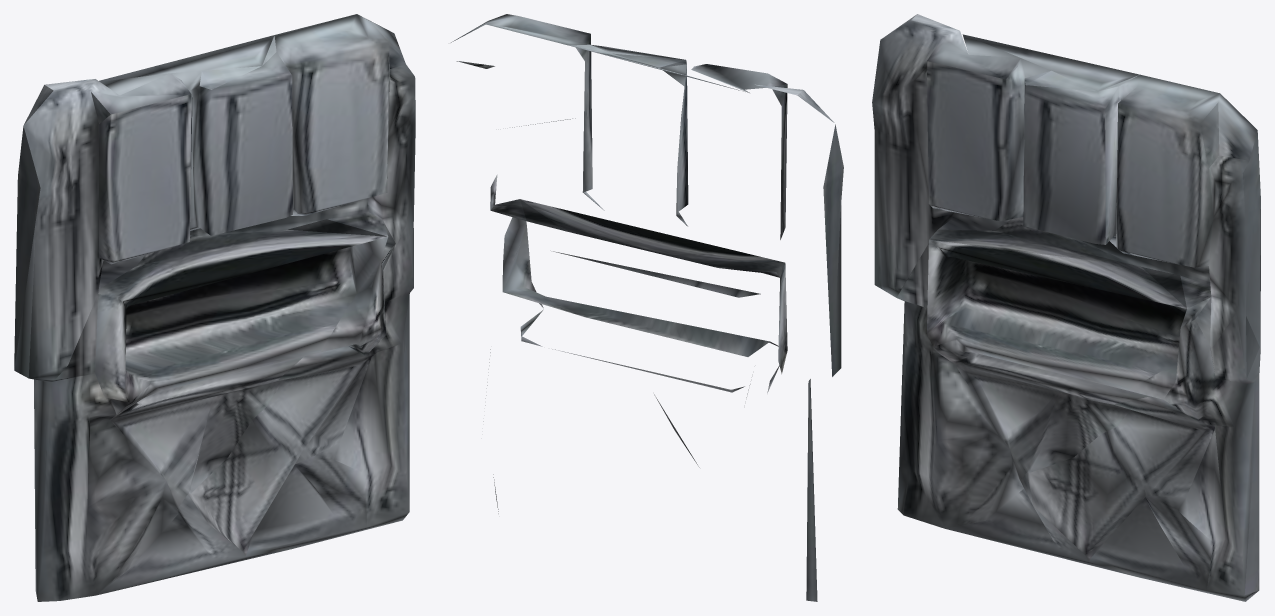
The model's file is hangar_wall_panel_g.glb.
3 views of the same model, side by side, from view 1: azimuth 30°, elevation 25°; view 2: azimuth 150°, elevation 25°; view 3: azimuth 330°, elevation 25° (orthographic). The views are drawn at different scales.
Parts seen in each view (by area): view 1: hangar_wall_panel_g; view 2: hangar_wall_panel_g; view 3: hangar_wall_panel_g.
Part boxes in pixels (x1,y1,x2,y2): hangar_wall_panel_g: (14, 14, 415, 601); hangar_wall_panel_g: (451, 14, 843, 601); hangar_wall_panel_g: (872, 14, 1260, 601).
Bounding box in the file's own units: 0.0755 × 0.0956 × 0.0147.
1 material, 1 textured.
